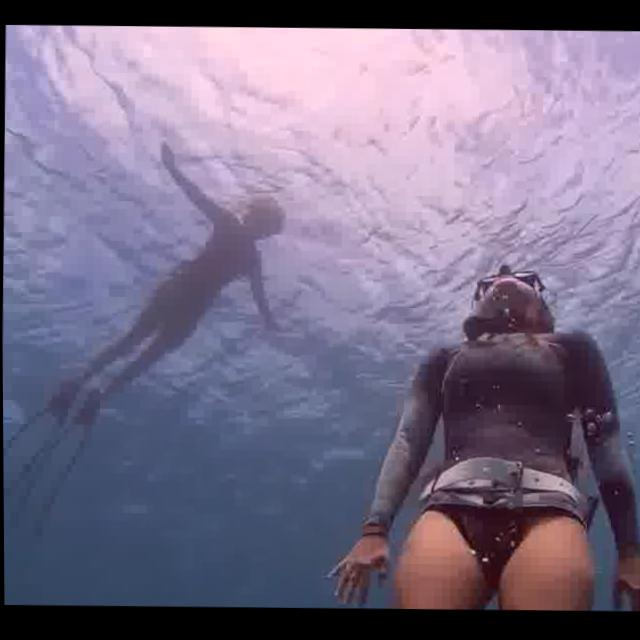human: (263, 241, 640, 613), (30, 113, 317, 477)
